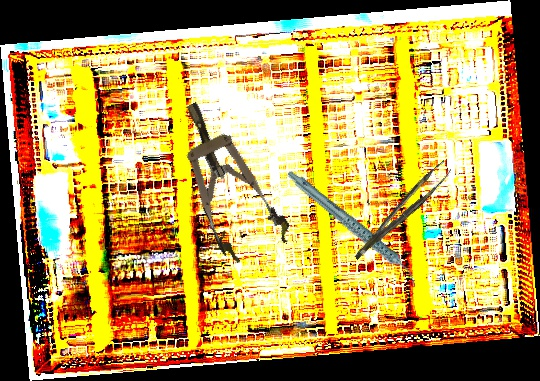Handpiece: (285, 149, 419, 307)
Speculum: (159, 88, 296, 269)
Tissue Forceps: (343, 160, 458, 260)
